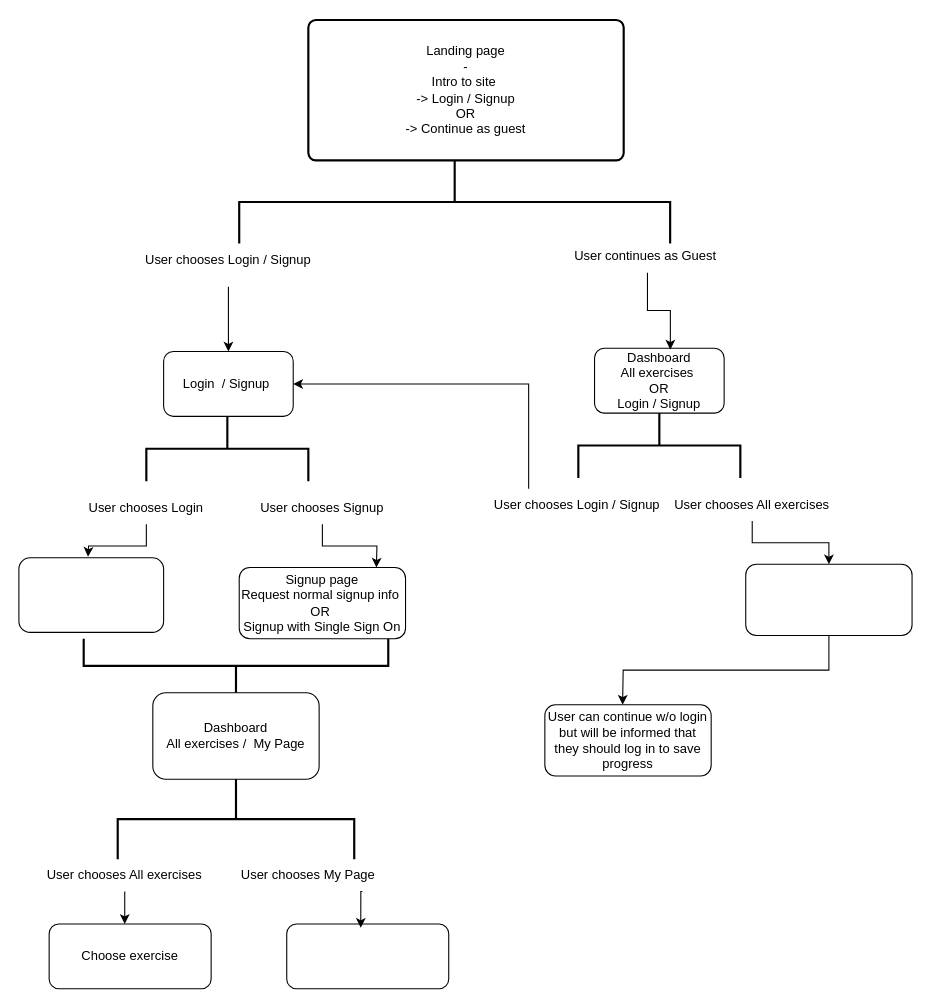
The diagram is 931 pixels wide and 1008 high, and some of its shapes have lost their labels. The shapes that lost their labels are listed below. From the top down, each one's centre as x and y in pixels, then its label:
At point (91, 594): "Login page email / password OR Single Sign On".
At point (828, 599): "Choose exercise Inform user to log in and why".
At point (367, 956): "Information on user-specific exercise details".
